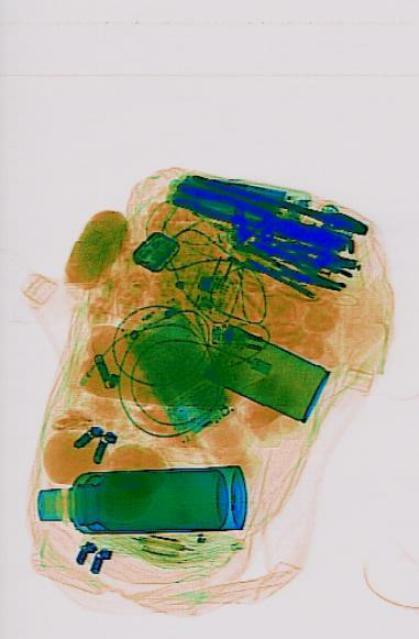Pliers: (171, 175, 346, 254)
